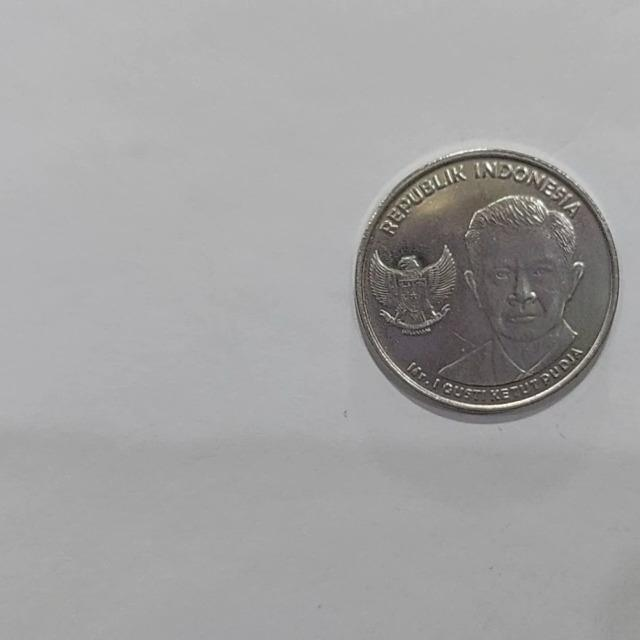Rp100: (354, 146, 620, 418), (432, 191, 587, 388)
